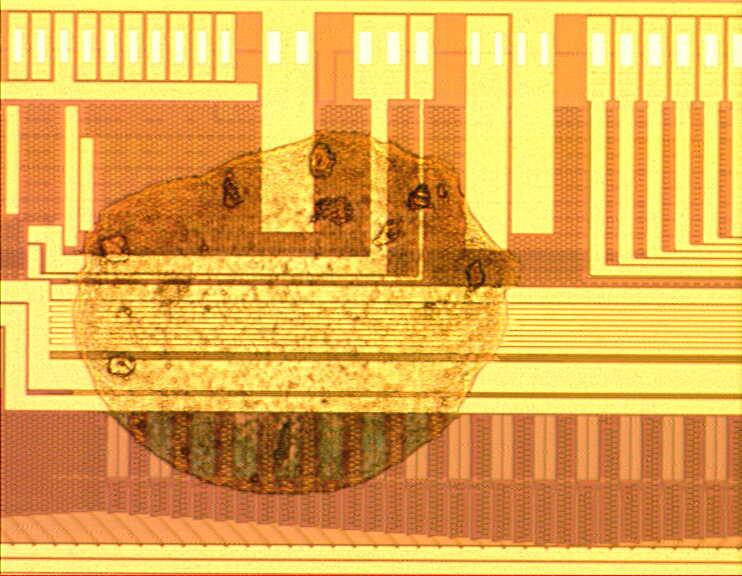PO CONTAMINATION: (60, 125, 522, 501)
